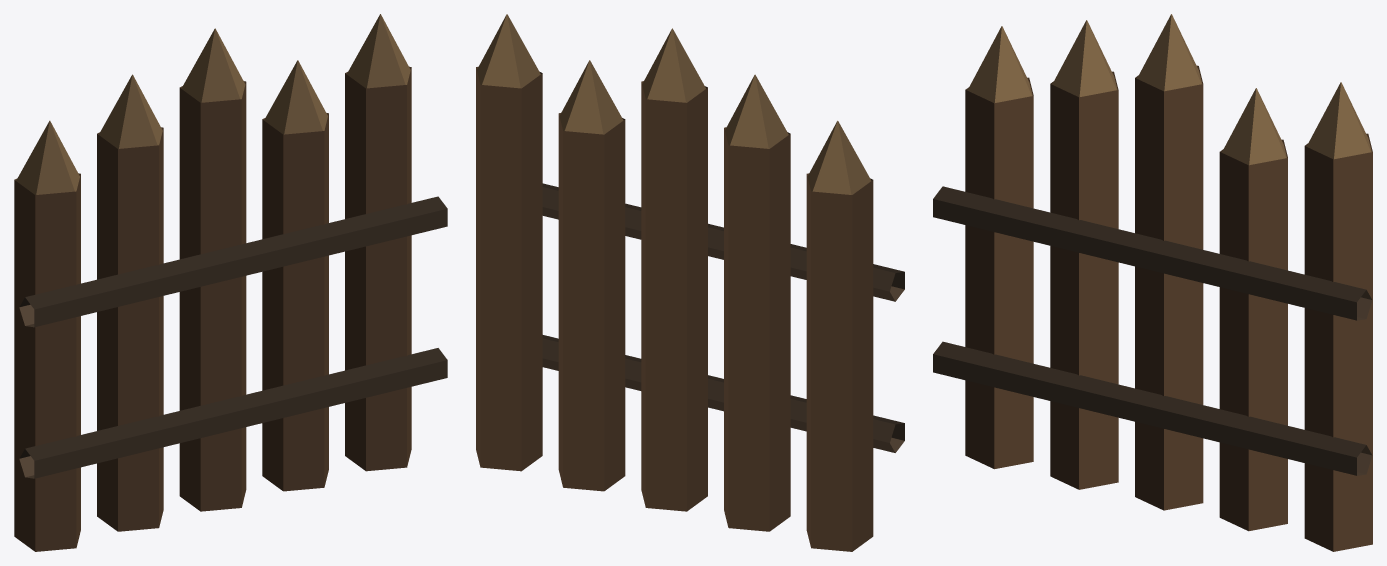
The picture shows the model from 3 angles, left to right: view 1: azimuth 30°, elevation 25°; view 2: azimuth 150°, elevation 25°; view 3: azimuth 330°, elevation 25°; orthographic projection. The views are drawn at different scales.
Visible parts, largest first — view 1: aeee1dc5559938b4156f7ae6ef9aae2ca6f2f180db2966b42d7c75f04cb4; view 2: aeee1dc5559938b4156f7ae6ef9aae2ca6f2f180db2966b42d7c75f04cb4; view 3: aeee1dc5559938b4156f7ae6ef9aae2ca6f2f180db2966b42d7c75f04cb4.
Boxes of the visible parts, x1,y1,x2,y2 form: aeee1dc5559938b4156f7ae6ef9aae2ca6f2f180db2966b42d7c75f04cb4: (14,14,447,551); aeee1dc5559938b4156f7ae6ef9aae2ca6f2f180db2966b42d7c75f04cb4: (476,14,904,551); aeee1dc5559938b4156f7ae6ef9aae2ca6f2f180db2966b42d7c75f04cb4: (933,14,1372,551).
Size of the model in its own units: 2 by 2.17 by 0.3593.
1 material, 1 textured.
